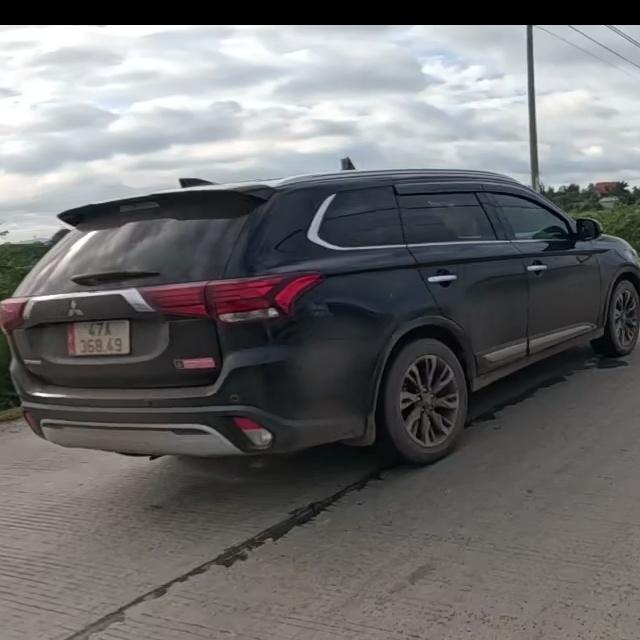license-plate: (68, 319, 132, 359)
